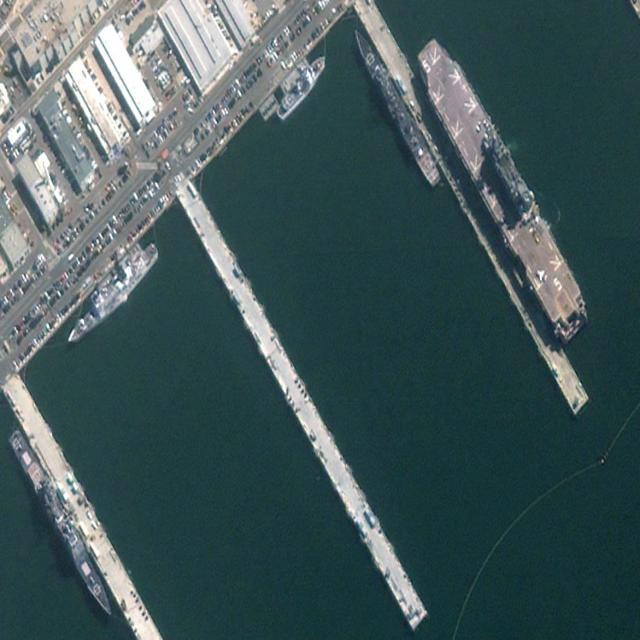Cruiser: (5, 423, 118, 624)
Frigate: (349, 18, 442, 192)
Landing: (408, 27, 596, 349)
Other Ship: (64, 239, 162, 354), (273, 50, 330, 124)
